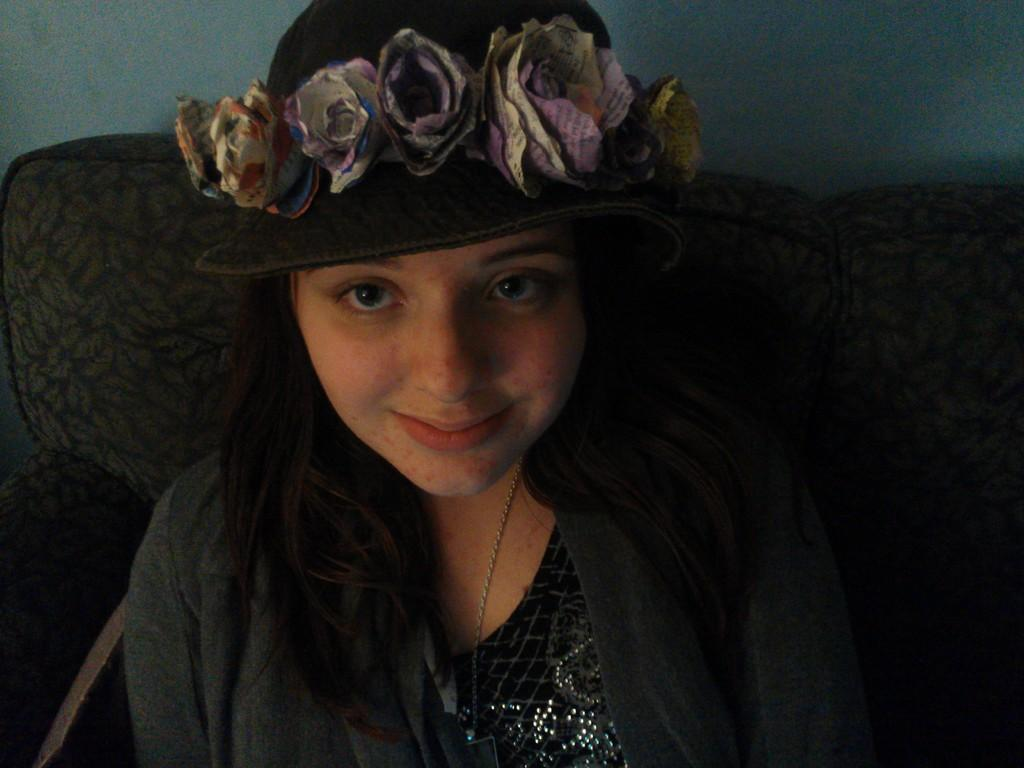Hat: (194, 0, 706, 291)
